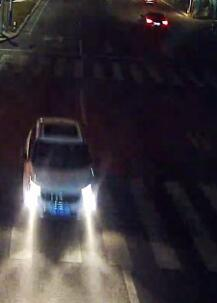car: (22, 114, 99, 224), (140, 11, 167, 29)
